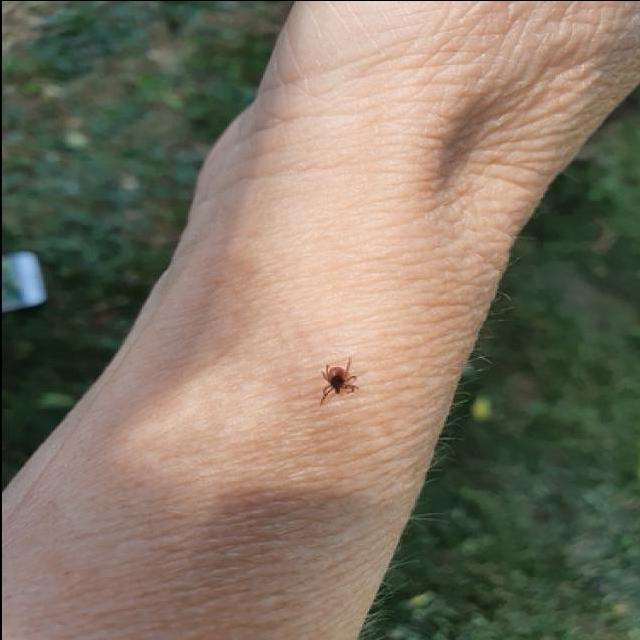Ixodes Ricinus-F: (309, 353, 367, 407)
